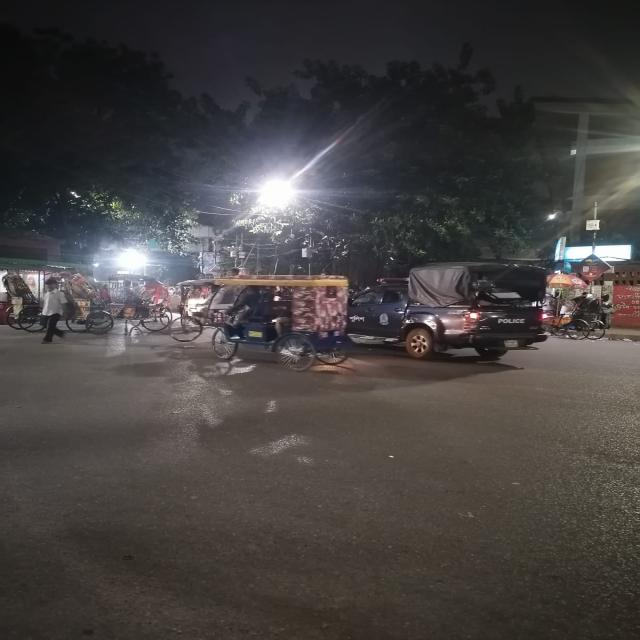person: (41, 278, 68, 344)
